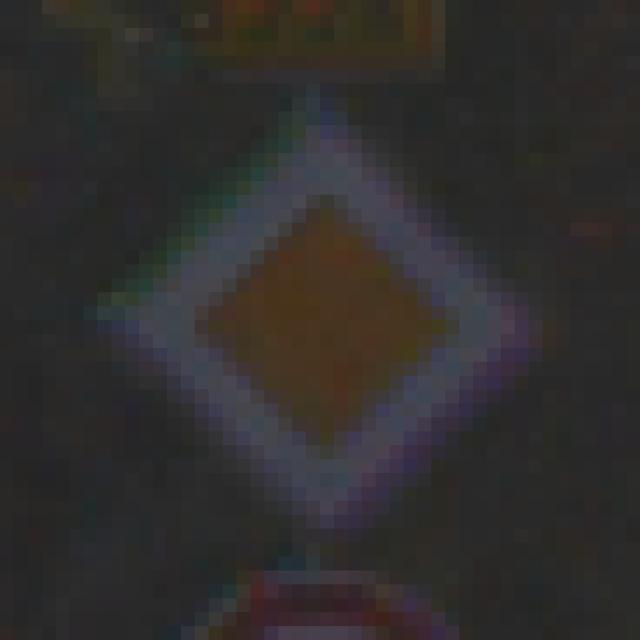Main Road: (71, 85, 572, 572)
